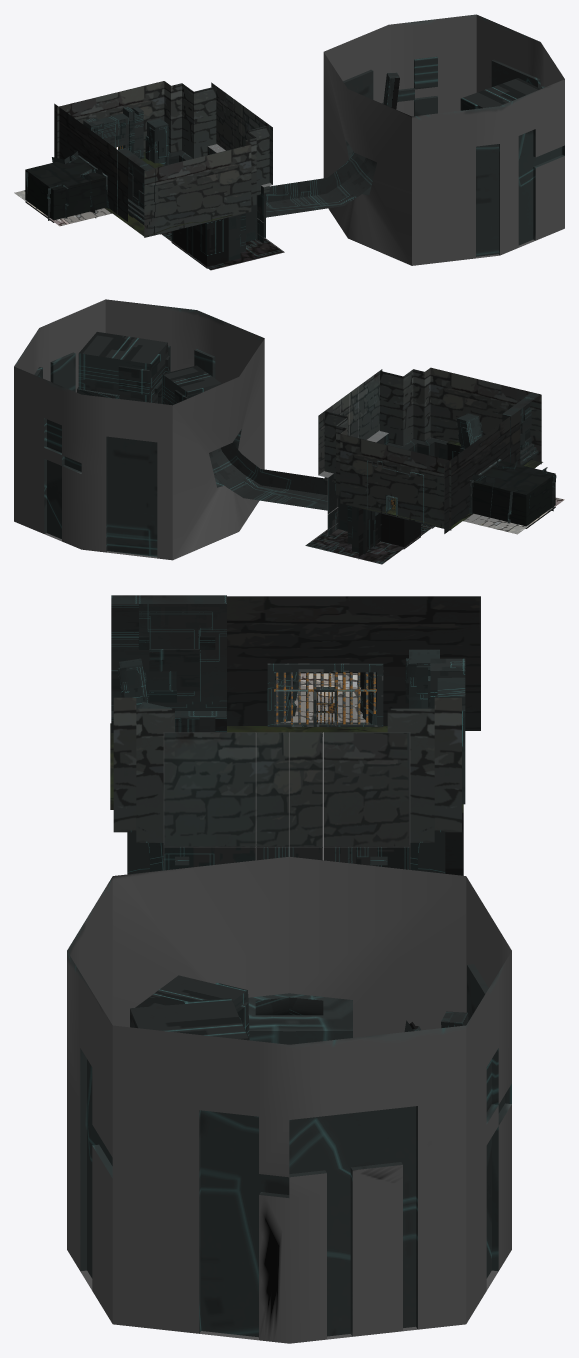
The model's file is Level.fbx.
3 renders of one model, top to bottom at view 1: azimuth 30°, elevation 25°; view 2: azimuth 150°, elevation 25°; view 3: azimuth 270°, elevation 25°, orthographic. The views are drawn at different scales.
Visible parts, largest first — view 1: Muren1, Muur_Z, Muur_W, Muur_N, Muren, Grond, Muur_O, Deur, Muur_W_structuur, Platform2, Pilaar_R, Bodem (+1 smaller); view 2: Muren1, Muur_N, Muur_Z, Muur_W, Platform2, Muren, Muur_O, Grond, Bodem, Platform3, Muur_W_structuur, Pilaar_L5 (+1 smaller); view 3: Muren1, Muur_O, Muur_W, Muur_W_structuur, Muur_N, Muur_Z, Grond, Platform2, Platform3, Frame_Cel, Deur, Tralies_Cel (+4 smaller).
Boxes of the visible parts, x1=… form: Muren1: x1=323, y1=14, x2=564, y2=265; Muur_Z: x1=144, y1=125, x2=269, y2=260; Muur_W: x1=25, y1=103, x2=127, y2=222; Muur_N: x1=57, y1=81, x2=216, y2=164; Muren: x1=266, y1=151, x2=376, y2=217; Grond: x1=14, y1=151, x2=232, y2=268; Muur_O: x1=207, y1=82, x2=272, y2=243; Deur: x1=83, y1=106, x2=144, y2=158; Muur_W_structuur: x1=117, y1=148, x2=155, y2=235; Platform2: x1=460, y1=78, x2=540, y2=110; Pilaar_R: x1=145, y1=118, x2=168, y2=165; Bodem: x1=161, y1=231, x2=284, y2=270; Muren1: x1=14, y1=299, x2=264, y2=560; Muur_N: x1=324, y1=411, x2=451, y2=554; Muur_Z: x1=380, y1=367, x2=541, y2=464; Muur_W: x1=444, y1=410, x2=555, y2=533; Platform2: x1=77, y1=332, x2=169, y2=403; Muren: x1=209, y1=441, x2=327, y2=510; Muur_O: x1=318, y1=369, x2=388, y2=536; Grond: x1=358, y1=440, x2=564, y2=559; Bodem: x1=305, y1=524, x2=433, y2=564; Platform3: x1=162, y1=365, x2=221, y2=405; Muur_W_structuur: x1=502, y1=392, x2=539, y2=465; Pilaar_L5: x1=456, y1=413, x2=483, y2=451; Muren1: x1=67, y1=856, x2=511, y2=1343; Muur_O: x1=163, y1=732, x2=410, y2=870; Muur_W: x1=227, y1=596, x2=480, y2=730; Muur_W_structuur: x1=111, y1=595, x2=226, y2=732; Muur_N: x1=370, y1=697, x2=461, y2=873; Muur_Z: x1=113, y1=697, x2=189, y2=874; Grond: x1=110, y1=673, x2=463, y2=875; Platform2: x1=130, y1=998, x2=248, y2=1040; Platform3: x1=135, y1=975, x2=249, y2=1039; Frame_Cel: x1=267, y1=663, x2=383, y2=726; Deur: x1=428, y1=658, x2=465, y2=804; Tralies_Cel: x1=274, y1=672, x2=376, y2=724.
Size of the model in its own units: 90.22 by 28.7 by 35.09.
